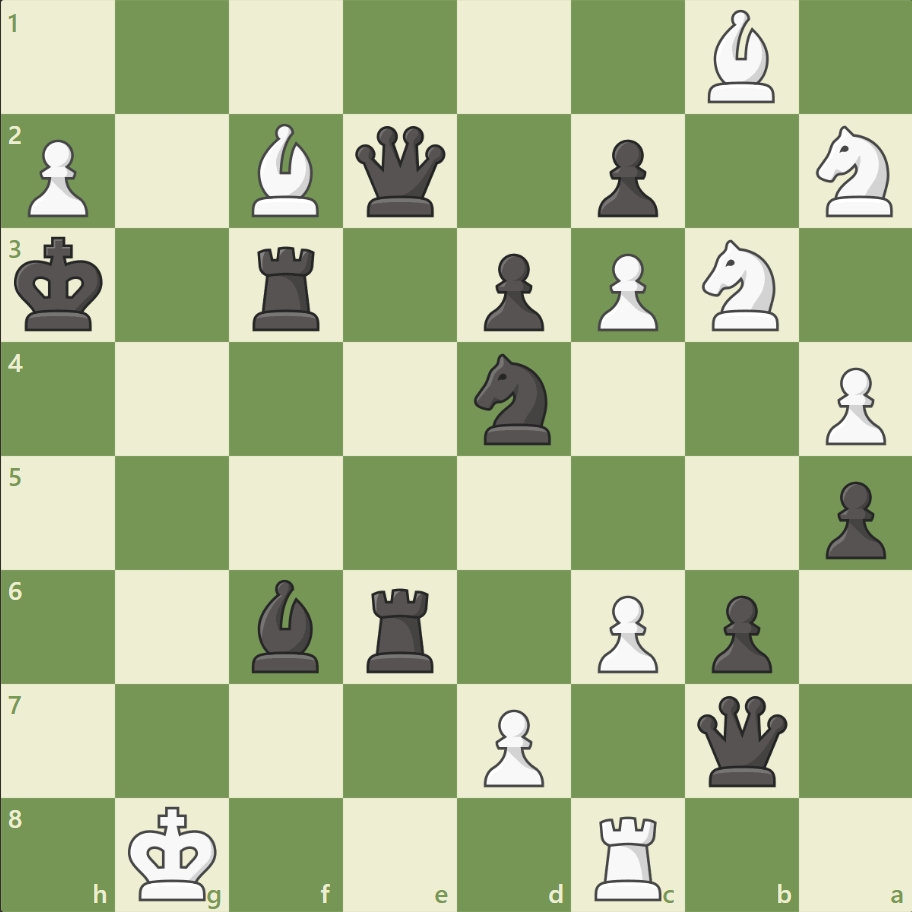B: (698, 6, 782, 109), (244, 120, 328, 222)
K: (124, 798, 224, 906)
N: (692, 234, 789, 337), (806, 121, 903, 223)
P: (474, 700, 549, 791), (20, 132, 95, 223), (588, 586, 662, 677), (815, 359, 889, 450), (588, 246, 662, 337)
R: (587, 806, 670, 904)
b: (244, 574, 328, 676)
k: (11, 231, 111, 339)
n: (465, 348, 562, 450)
p: (701, 586, 776, 677), (474, 246, 549, 337), (815, 473, 889, 564), (588, 132, 662, 223)
q: (351, 122, 450, 222), (691, 690, 790, 789)
r: (246, 239, 329, 336), (360, 579, 442, 676)
